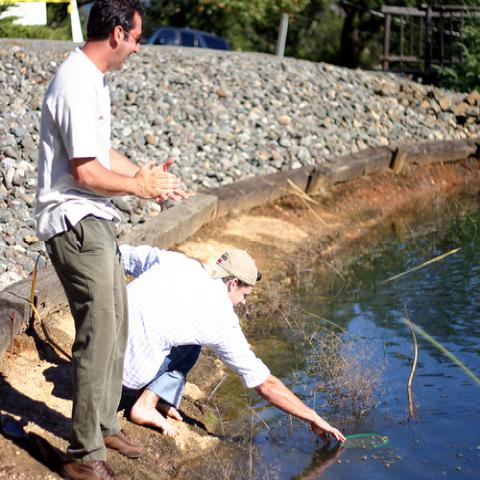car: (140, 27, 234, 51)
